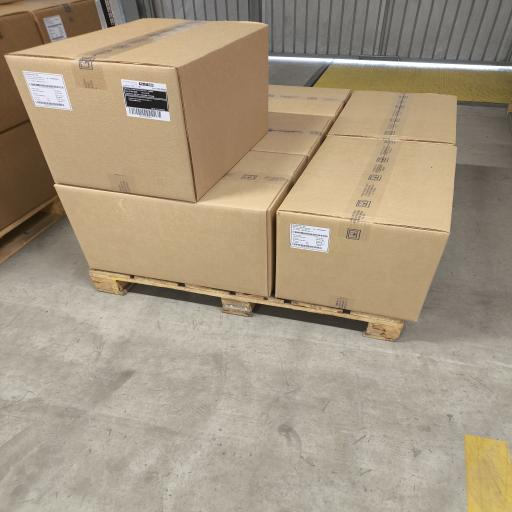pallet: (90, 270, 404, 341), (0, 195, 65, 263)
